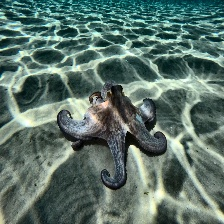octopus: (57, 82, 168, 189)
